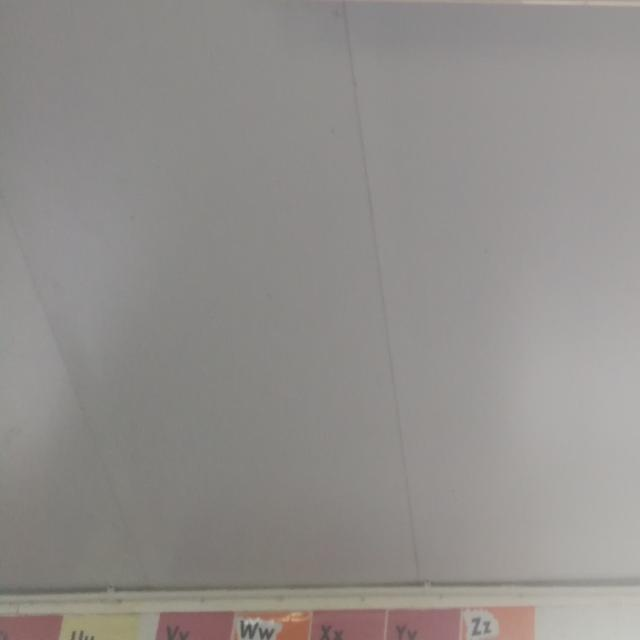fluorescent tube: (237, 0, 640, 89)
